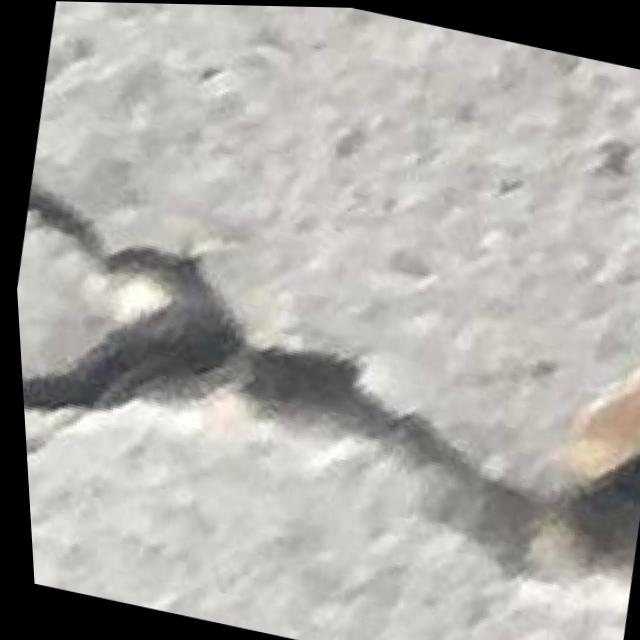Crack: (8, 169, 640, 606)
